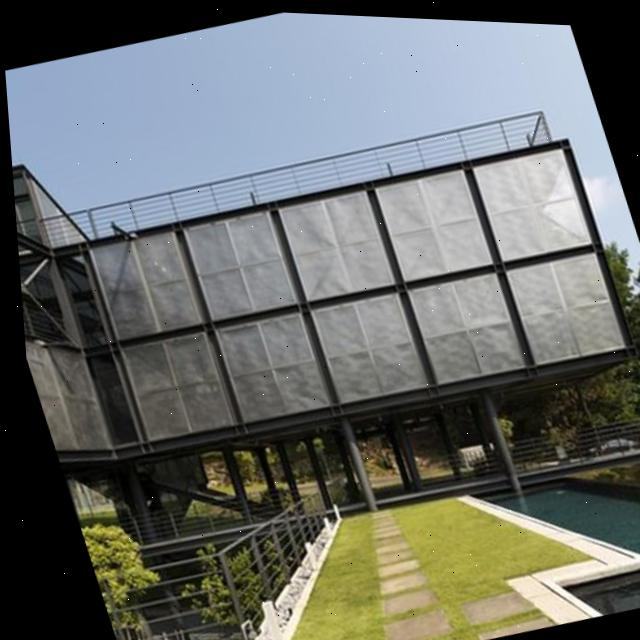building: (1, 10, 640, 586)
